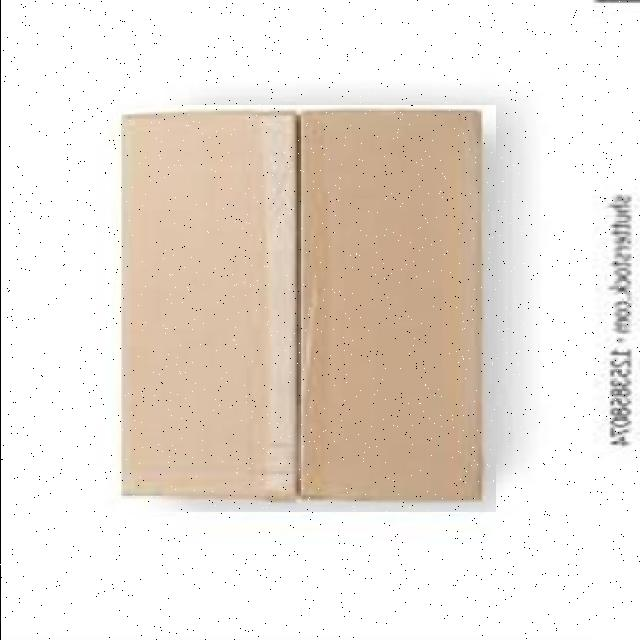normal: (116, 105, 496, 512)
